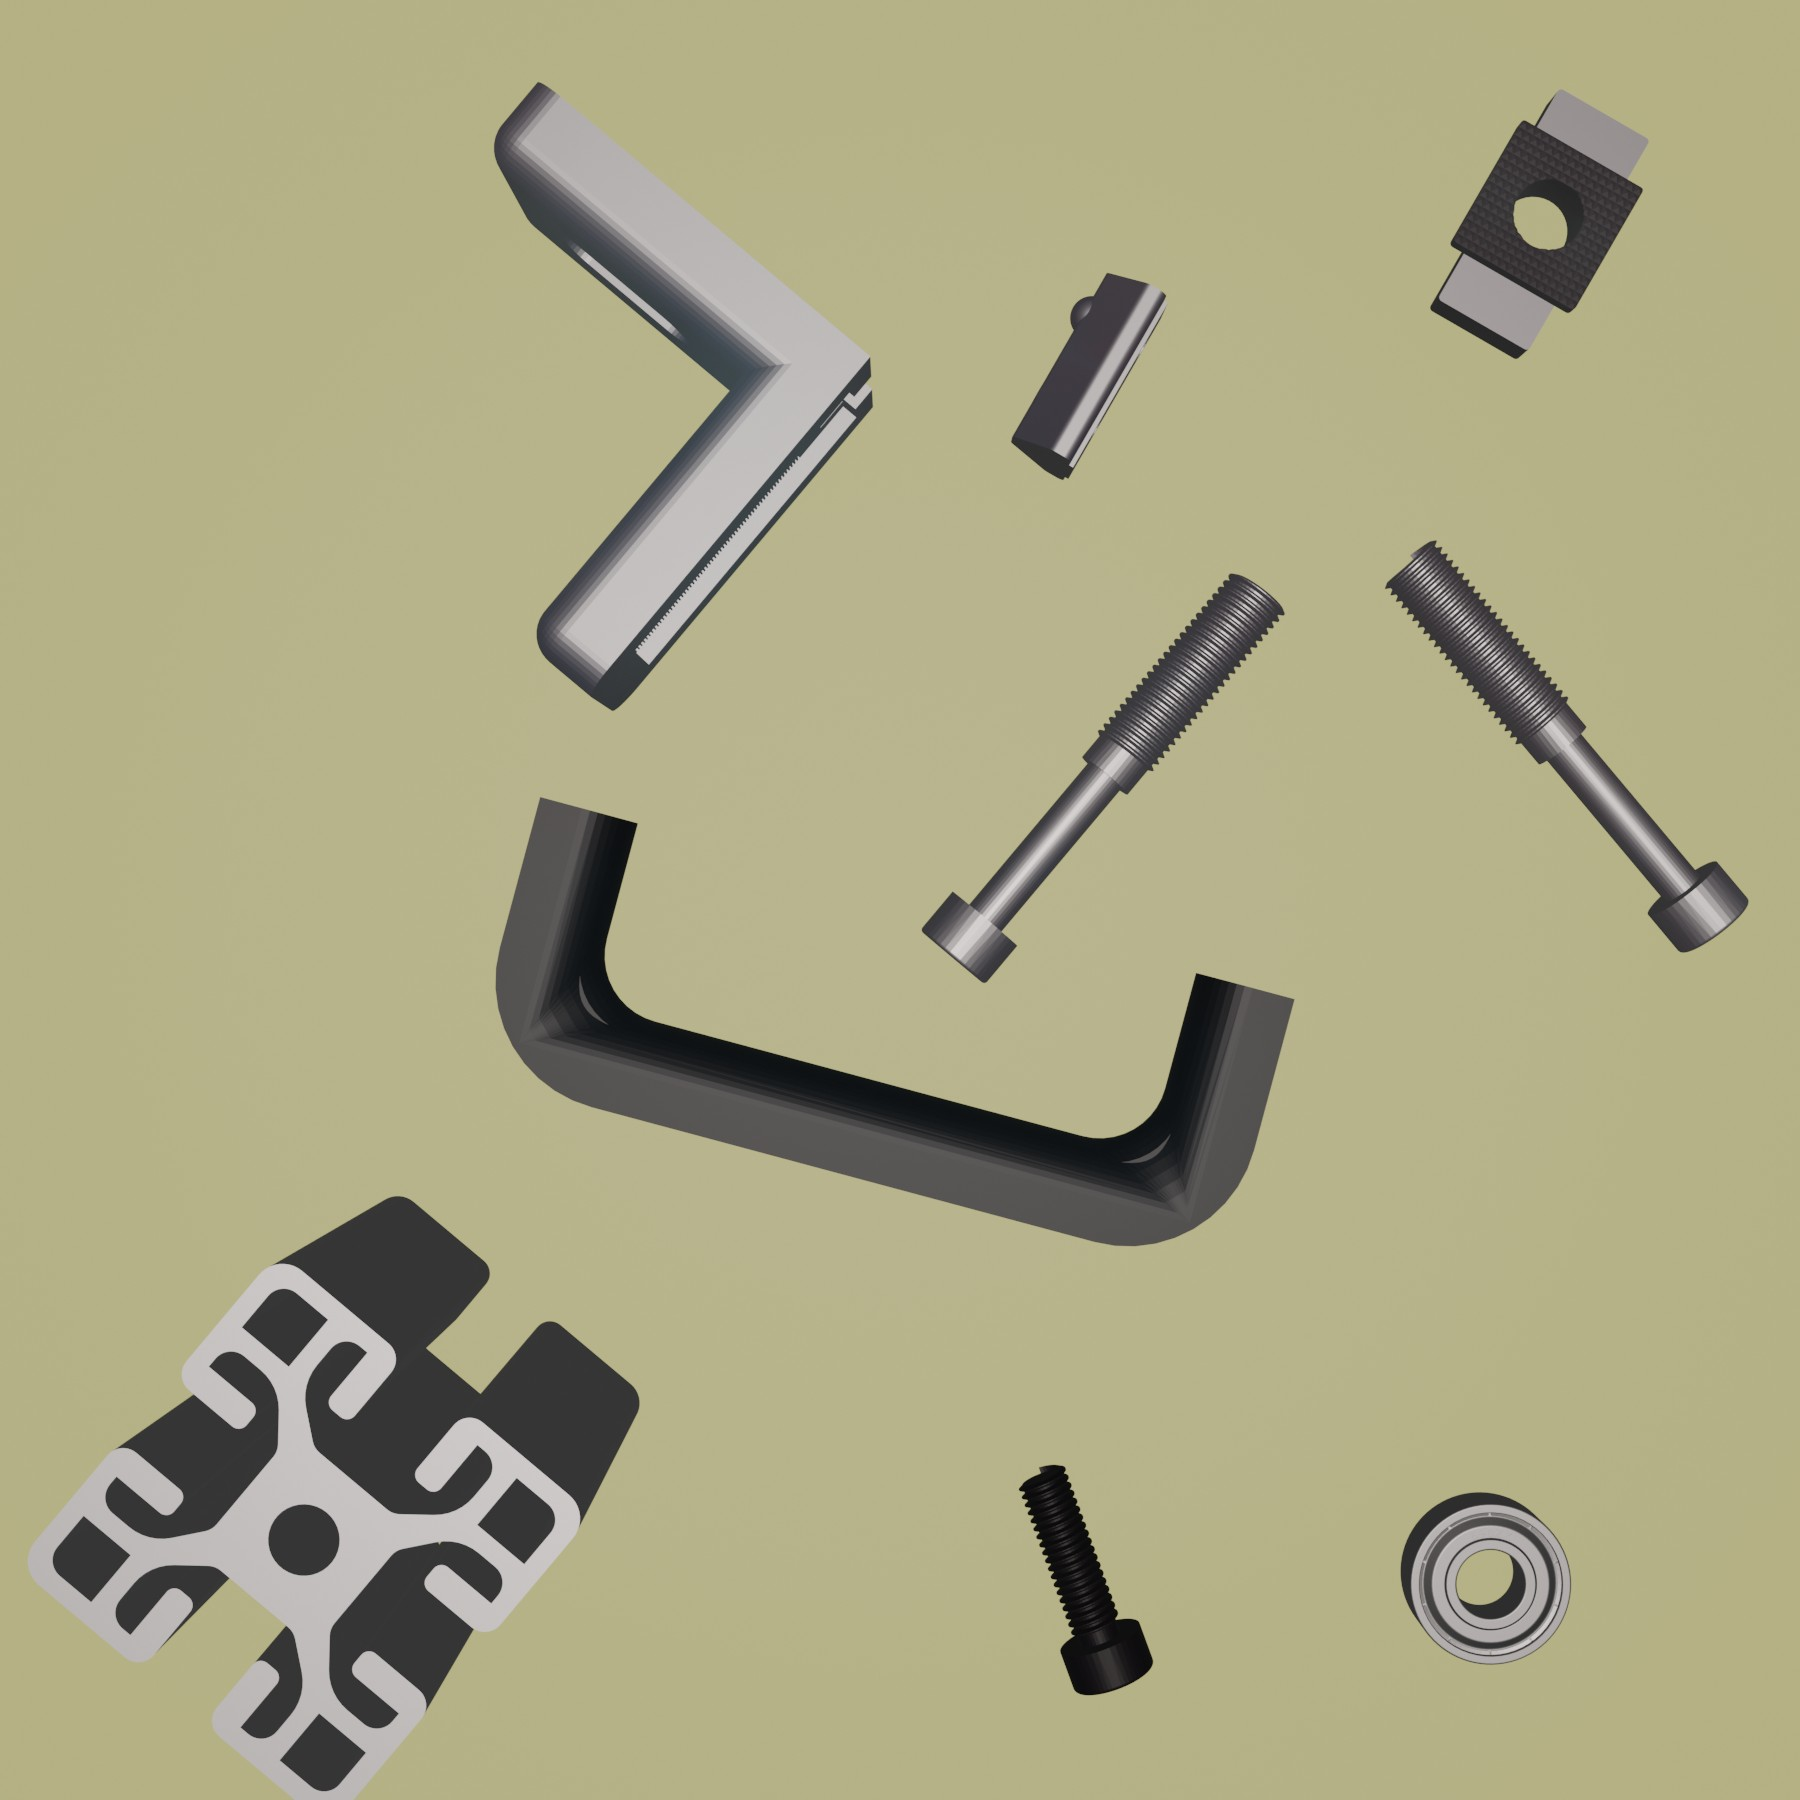Aluminium Extension: (26, 1195, 643, 1800)
Ball Bearing: (1398, 1488, 1574, 1666)
Multiwinkel: (493, 77, 879, 714)
Pull Handle: (490, 795, 1296, 1249)
Shoulder Socket Head Cap Screw: (1380, 536, 1751, 954), (916, 574, 1286, 986)
Socket Head Cap Screw: (1015, 1459, 1155, 1699)
T Nut Square: (1427, 86, 1652, 363)
T Spring Nut: (1009, 269, 1170, 485)
